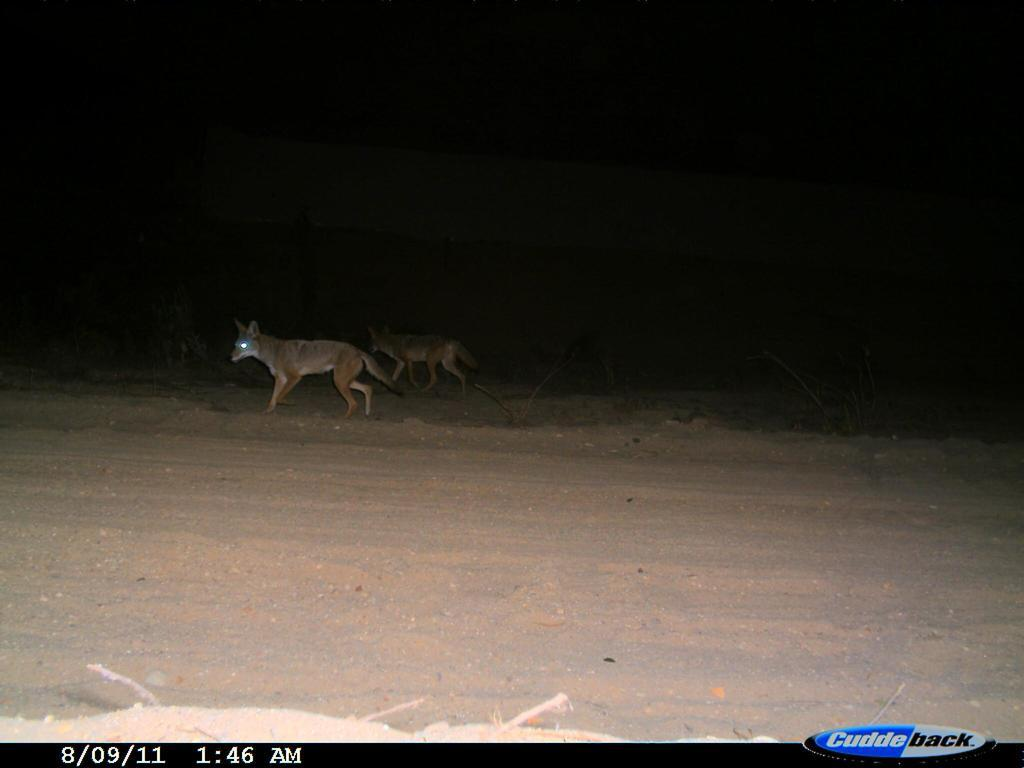coyote: (226, 315, 397, 422), (374, 323, 484, 397)
